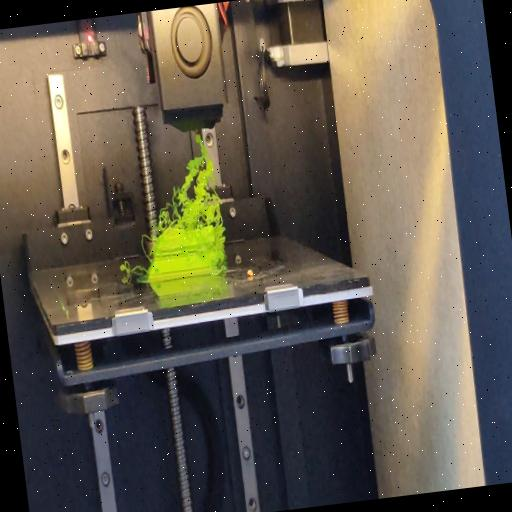spaghetti: (144, 133, 230, 237), (212, 233, 230, 278), (118, 258, 148, 276), (139, 232, 153, 264)
